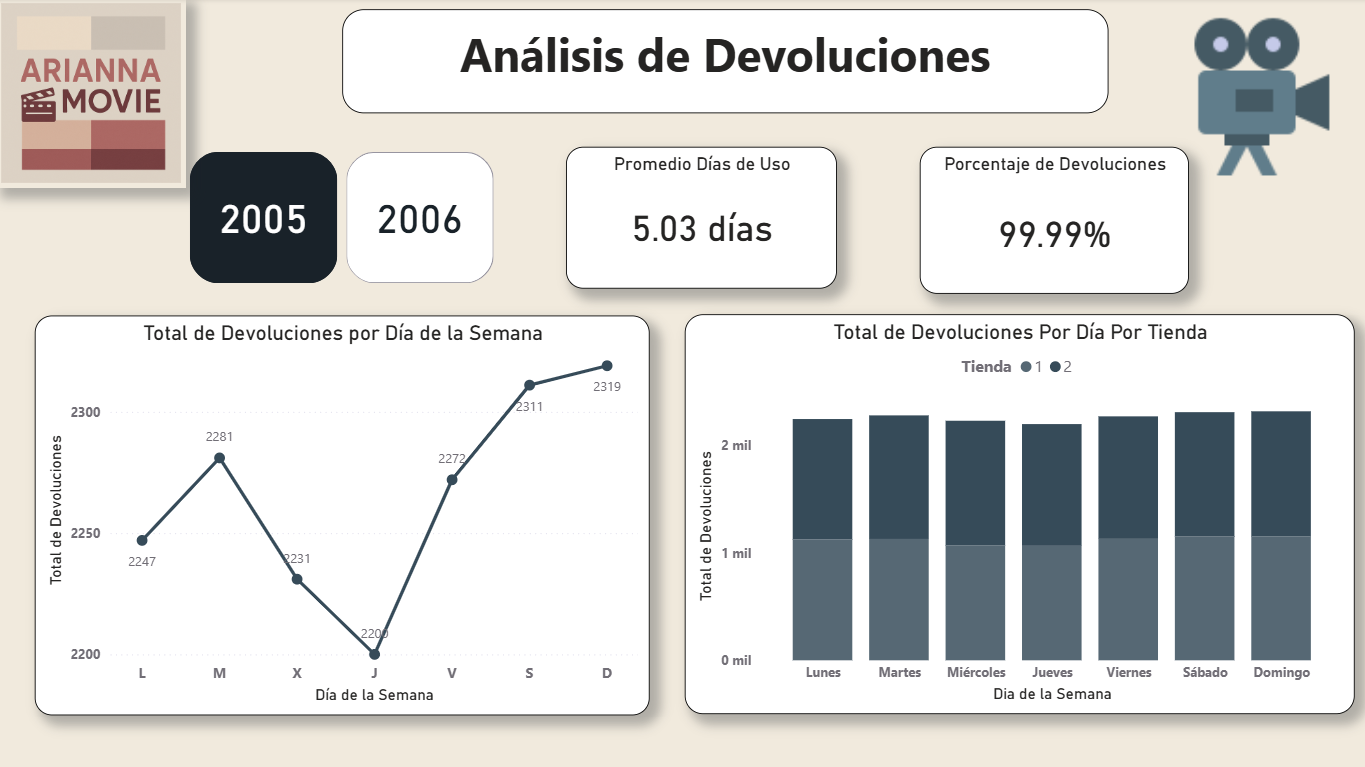

Layout of this report page (visuals, bound fields, positions):
{"tool":"powerbi","page":{"name":"🔁 Análisis de Devoluciones","canvas":[1280,720],"ordinal":2},"visuals":[{"type":"card","title":"Promedio Días de Uso","fields":{"Values":["Medidas.PromedioDiasUsoRentados"]},"box":[529.9,138.2,252,132],"z":0},{"type":"lineChart","title":"Total de Devoluciones por Día de la Semana","fields":{"Category":["Calendario.Inicial Día de la Semana"],"Y":["Medidas.DevolucionesPorDia"]},"box":[35.8,295,572.1,371.8],"z":1000},{"type":"advancedSlicerVisual","fields":{"Values":["Calendario.Año"]},"box":[175.7,138.2,292.3,132.5],"z":2000},{"type":"image","box":[0,0,177.1,177.1],"z":3000},{"type":"card","title":"Porcentaje de Devoluciones","fields":{"Values":["Medidas.PorcentajeDevoluciones"]},"box":[859.7,138.2,250.6,136.8],"z":4000},{"type":"columnChart","title":"Total de Devoluciones Por Día Por Tienda ","fields":{"Category":["Calendario.Nombre Día de la Semana"],"Y":["Medidas.DevolucionesPorDia"],"Series":["Inventario.store_id"]},"box":[640.1,294.5,623.1,371.8],"z":5000},{"type":"image","box":[1075.5,0,204.5,177.1],"z":6000},{"type":"textbox","box":[322.6,10.1,712.8,96.5],"z":7000}]}

Visuals, with their boxes in screenshot pixels (x1, y1, x2, y2), scaled from the page's 1280x720 canvas onto the 1365x767 screenshot:
"Promedio Días de Uso" card: <region>565, 147, 834, 288</region>
"Total de Devoluciones por Día de la Semana" lineChart: <region>38, 314, 648, 710</region>
advancedSlicerVisual - Calendario.Año: <region>187, 147, 499, 288</region>
image: <region>0, 0, 189, 189</region>
"Porcentaje de Devoluciones" card: <region>917, 147, 1184, 293</region>
"Total de Devoluciones Por Día Por Tienda " columnChart: <region>683, 314, 1347, 710</region>
image: <region>1147, 0, 1364, 189</region>
textbox: <region>344, 11, 1104, 114</region>
